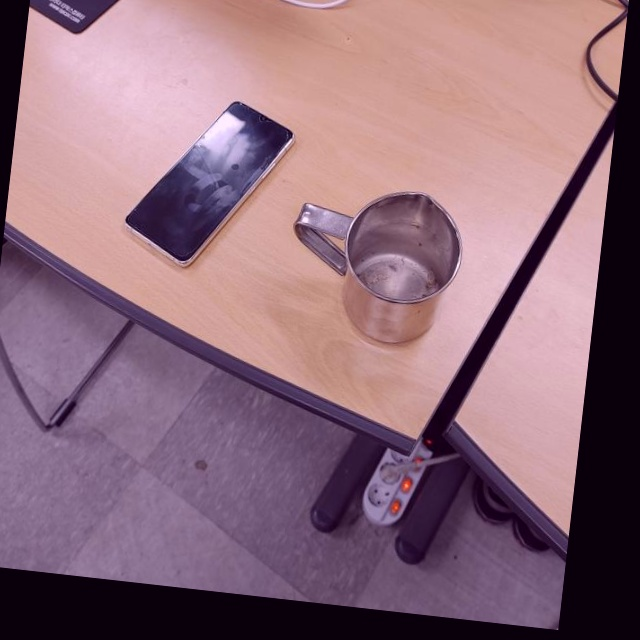cup: (280, 176, 465, 350)
phone: (116, 87, 295, 278)
